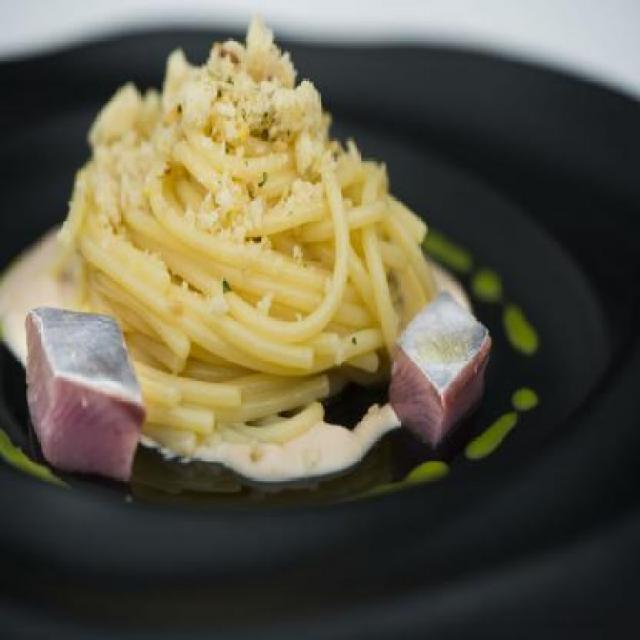Oil pasta: (56, 24, 504, 487)
